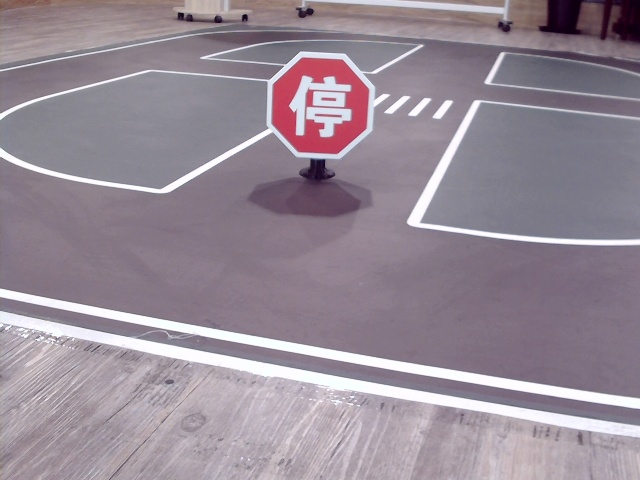stop: (291, 71, 350, 139)
